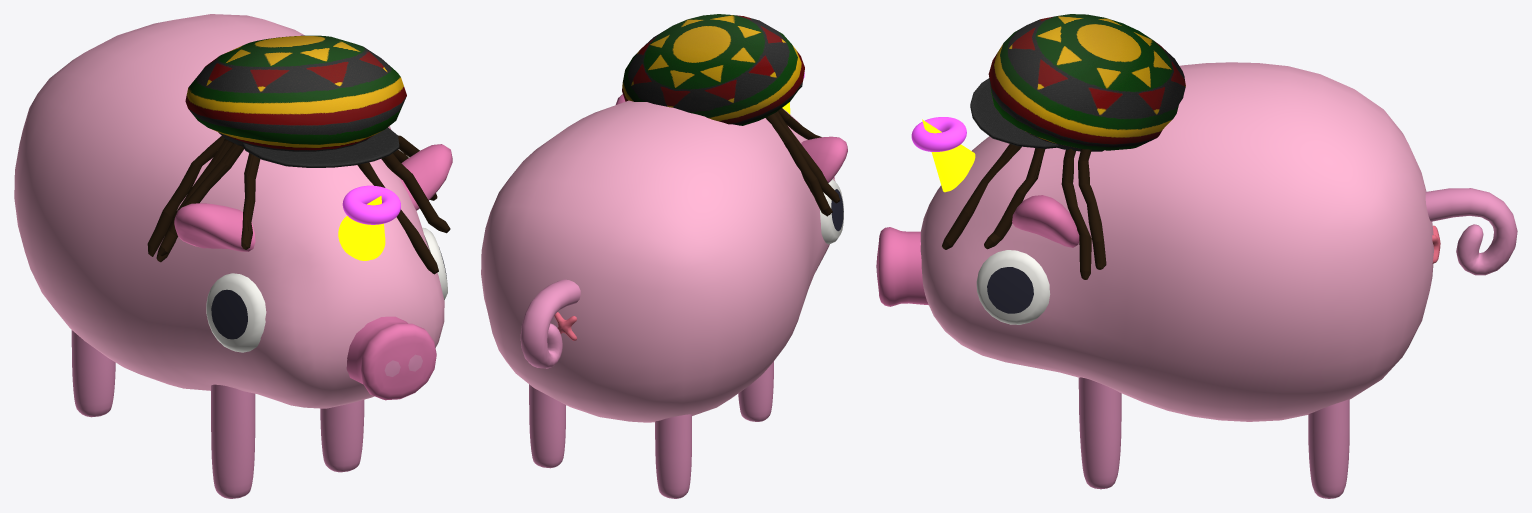
3 renders of one model, left to right at view 1: azimuth 30°, elevation 25°; view 2: azimuth 150°, elevation 25°; view 3: azimuth 270°, elevation 25°, orthographic. The views are drawn at different scales.
Visible parts, largest first — view 1: Pig, ReggaeCap, root.003, root.001, Cylinder.006, Cylinder.004, Cylinder.007, Cylinder.002, Cylinder.003, Cylinder.001; view 2: Pig, ReggaeCap, Cylinder.006, Cylinder.004, Cylinder.003; view 3: Pig, ReggaeCap, Cylinder.005, root.003, root.001, Cylinder, Cylinder.002, Cylinder.007.
Boxes of the visible parts, <box> form: Pig: <box>14,14,452,498</box>; ReggaeCap: <box>185,35,406,167</box>; root.003: <box>342,185,400,224</box>; root.001: <box>338,196,385,260</box>; Cylinder.006: <box>147,135,224,256</box>; Cylinder.004: <box>158,143,243,256</box>; Cylinder.007: <box>381,153,450,233</box>; Cylinder.002: <box>357,162,438,274</box>; Cylinder.003: <box>241,153,260,249</box>; Cylinder.001: <box>156,139,233,262</box>; Pig: <box>481,94,847,498</box>; ReggaeCap: <box>622,14,804,125</box>; Cylinder.006: <box>765,113,830,216</box>; Cylinder.004: <box>776,111,840,203</box>; Cylinder.003: <box>778,108,821,139</box>; Pig: <box>876,62,1517,498</box>; ReggaeCap: <box>970,14,1185,151</box>; Cylinder.005: <box>1061,148,1091,279</box>; root.003: <box>911,117,966,151</box>; root.001: <box>922,119,975,192</box>; Cylinder: <box>1078,149,1106,269</box>; Cylinder.002: <box>942,144,1021,249</box>; Cylinder.007: <box>984,148,1045,249</box>.
Size of the model in its own units: 1.56 by 2.04 by 2.75.
Materials: 12 (2 with a texture image).
